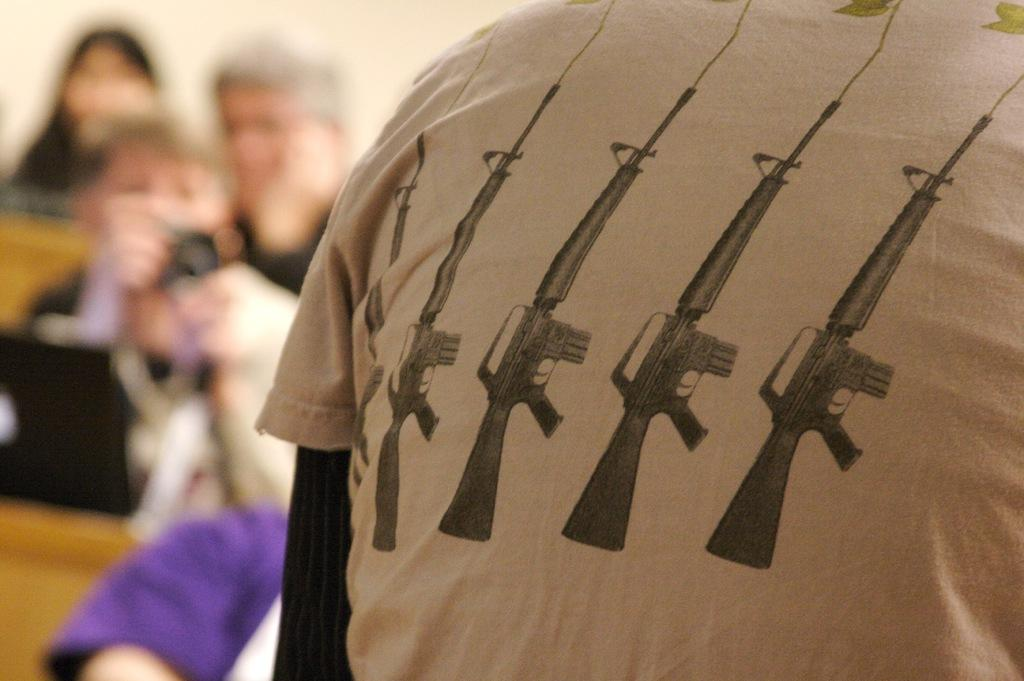Rifle: (351, 86, 992, 572)
